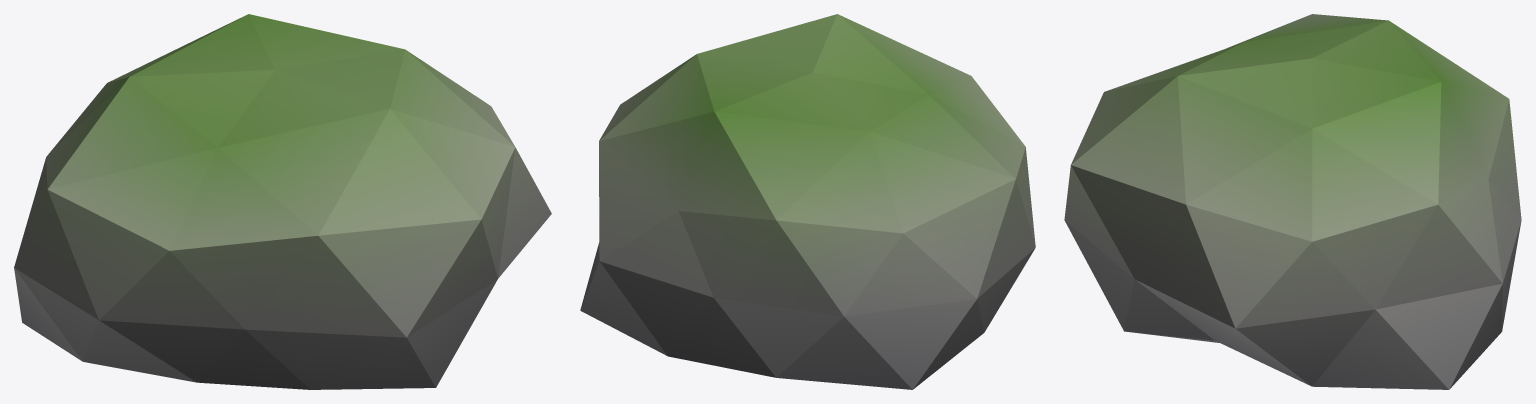
Rendered from f_rock4.glb.
The picture shows the model from 3 angles, left to right: view 1: azimuth 30°, elevation 25°; view 2: azimuth 150°, elevation 25°; view 3: azimuth 270°, elevation 25°; orthographic projection. The views are drawn at different scales.
Parts seen in each view (by area): view 1: rock4; view 2: rock4; view 3: rock4.
Part boxes in pixels (x1,y1,x2,y2): rock4: (14,14,551,389); rock4: (580,14,1035,389); rock4: (1064,14,1521,389).
Bounding box in the file's own units: 2.8 × 1.51 × 2.54.
